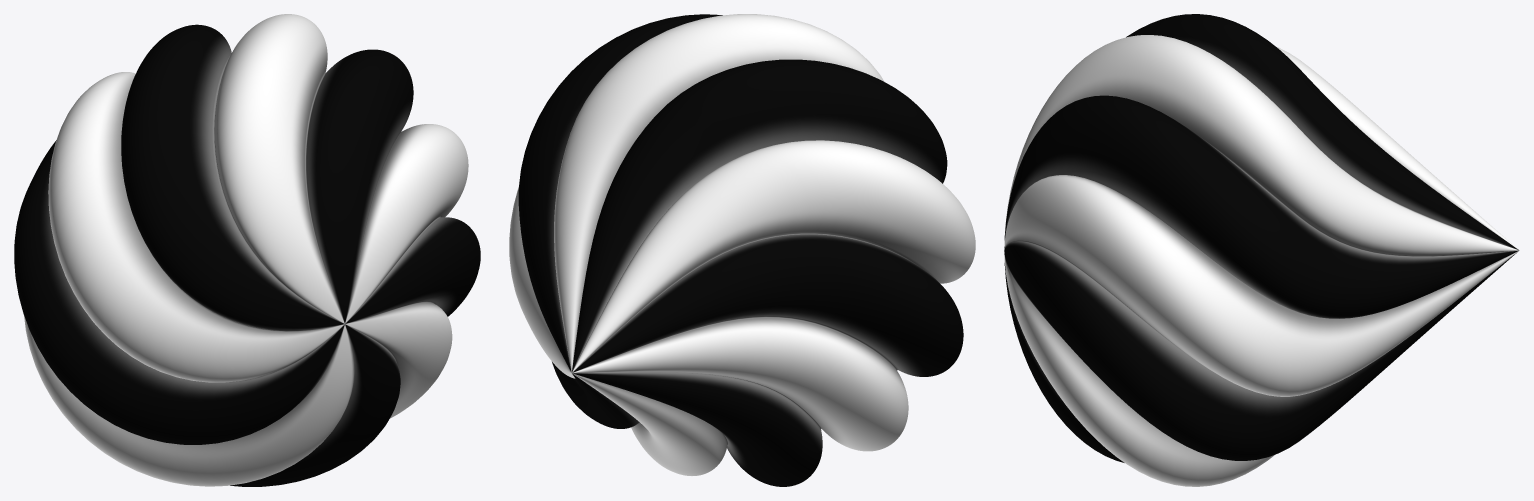
Rendered from onion.glb.
3 renders of one model, left to right at view 1: azimuth 30°, elevation 25°; view 2: azimuth 150°, elevation 25°; view 3: azimuth 270°, elevation 25°, orthographic. The views are drawn at different scales.
Visible parts, largest first — view 1: onion_model; view 2: onion_model; view 3: onion_model.
Part boxes in pixels (<box>): onion_model: <box>14,14,480,486</box>; onion_model: <box>509,14,975,486</box>; onion_model: <box>1004,14,1519,486</box>.
Bounding box in the file's own units: 2.5 × 2.5 × 2.74.
1 material, 1 textured.
